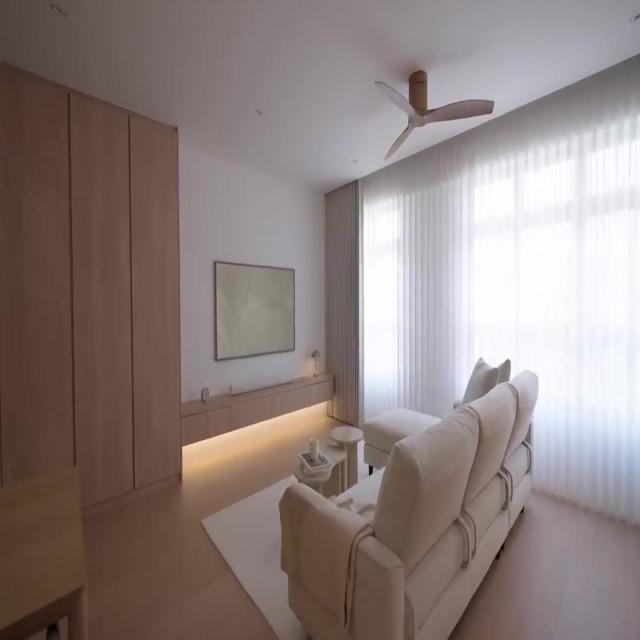obstacle: (278, 366, 538, 638), (0, 463, 87, 638)
